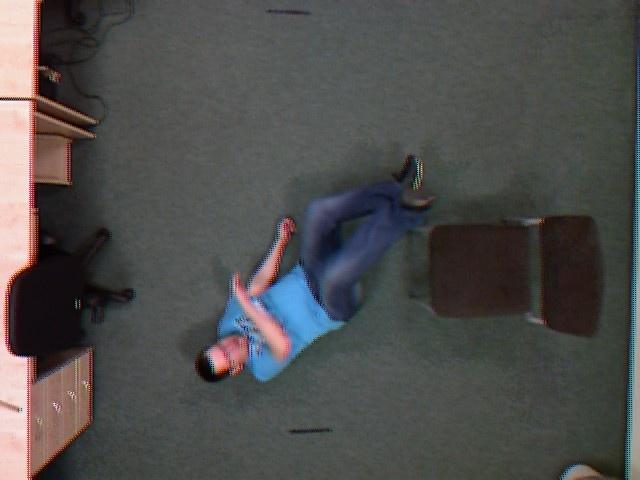fall: (186, 144, 438, 401)
